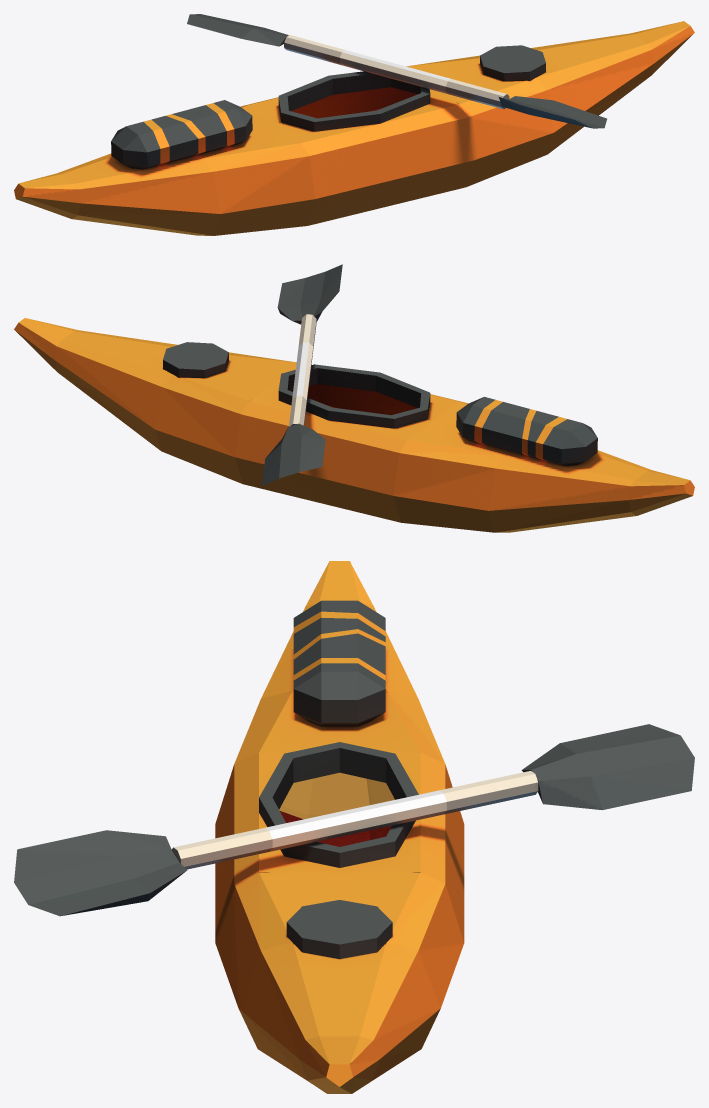
File: Kayak.FBX
3 views of the same model, one above another, from view 1: azimuth 30°, elevation 25°; view 2: azimuth 150°, elevation 25°; view 3: azimuth 270°, elevation 25° (orthographic). The views are drawn at different scales.
Parts seen in each view (by area): view 1: PUSHILIN_Kayak_Circle_003; view 2: PUSHILIN_Kayak_Circle_003; view 3: PUSHILIN_Kayak_Circle_003.
Part boxes in pixels (x1,y1,x2,y2): PUSHILIN_Kayak_Circle_003: (14, 14, 694, 235); PUSHILIN_Kayak_Circle_003: (14, 264, 694, 532); PUSHILIN_Kayak_Circle_003: (14, 561, 694, 1093).
Size of the model in its own units: 3.94 by 2.22 by 0.7054.
Materials: 1 (1 with a texture image).
